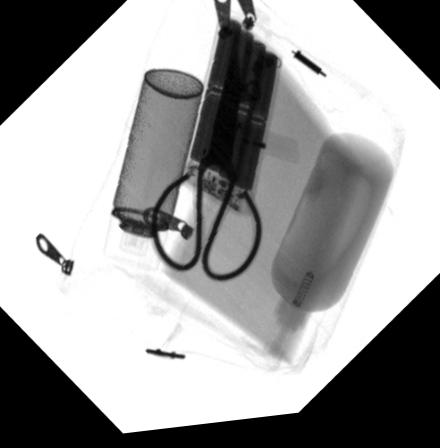Lighter: (227, 116, 297, 175)
Powerbank: (176, 20, 283, 224)
Scissors: (146, 56, 263, 287)
Sprayer: (102, 71, 201, 274)
